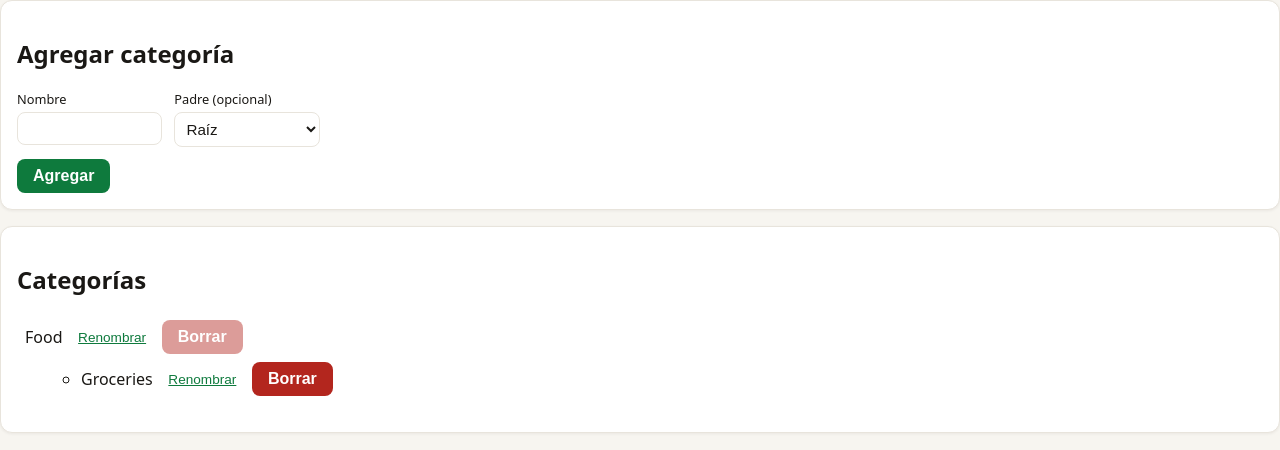
Scenario: CategoriesPage › deletes after confirm and refreshes the tree and the deleted list
The image size is (1280, 450).
Click the button with test id "delete-11": (292, 379) [252, 362, 333, 396]
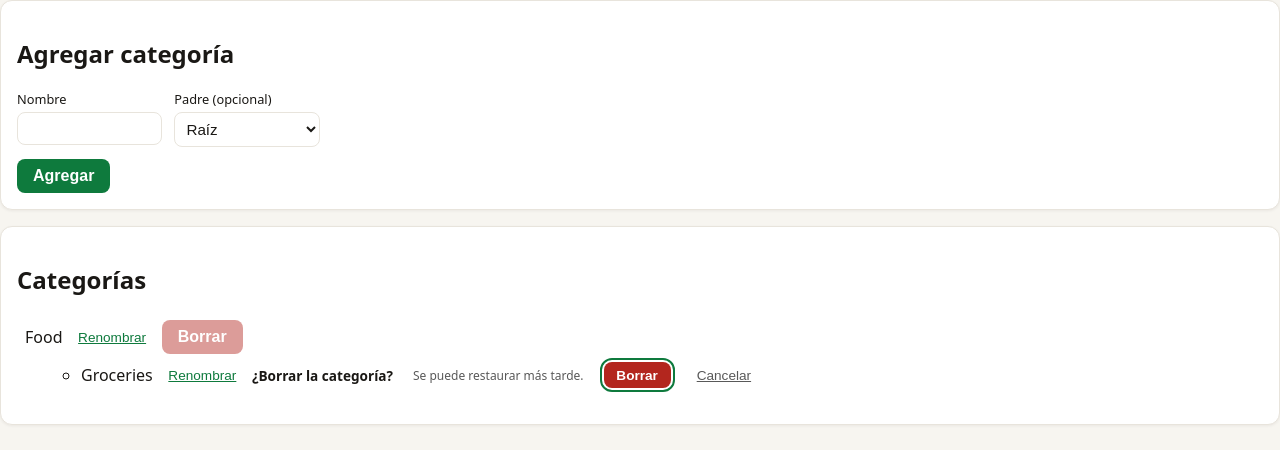
Click the button with test id "confirm-delete-11": (637, 375) [604, 362, 671, 388]
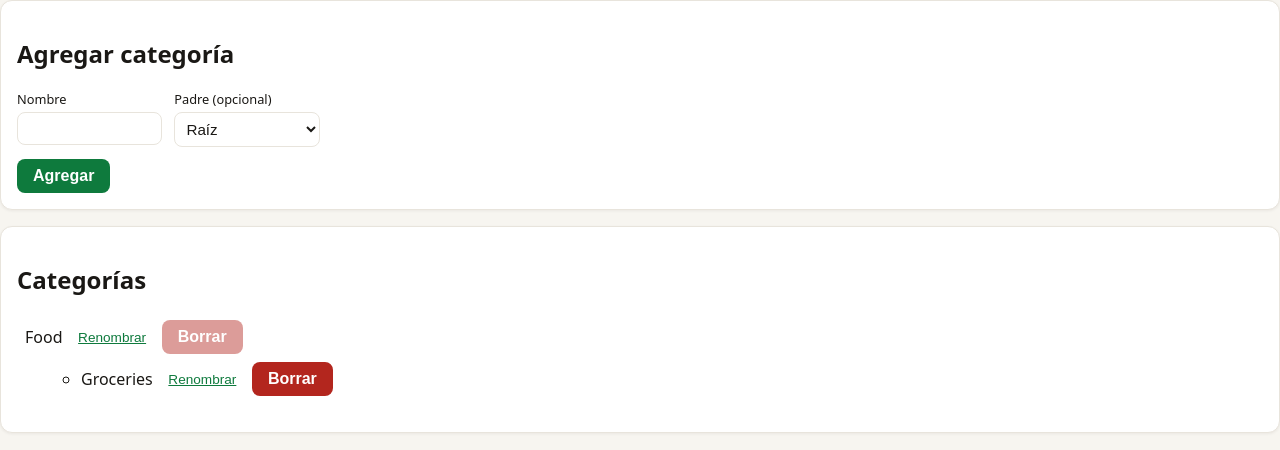
Expected: the button with test id "confirm-delete-11" is gone
